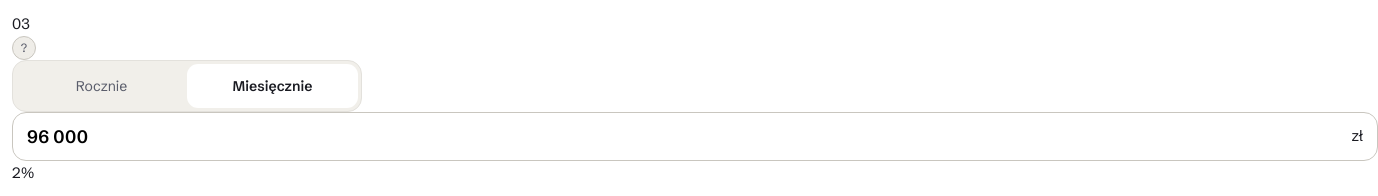
Test: scale › updates input and values for 08
Replace the text in the field with "08" at (684, 136), box [27,123,1342,150]
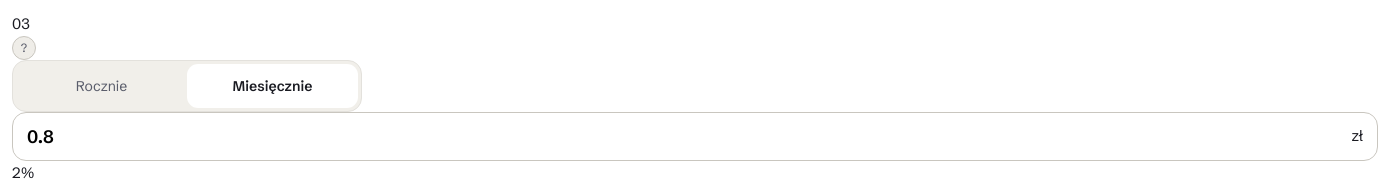
Now the field holds "0.8", box [27,123,1342,150]
